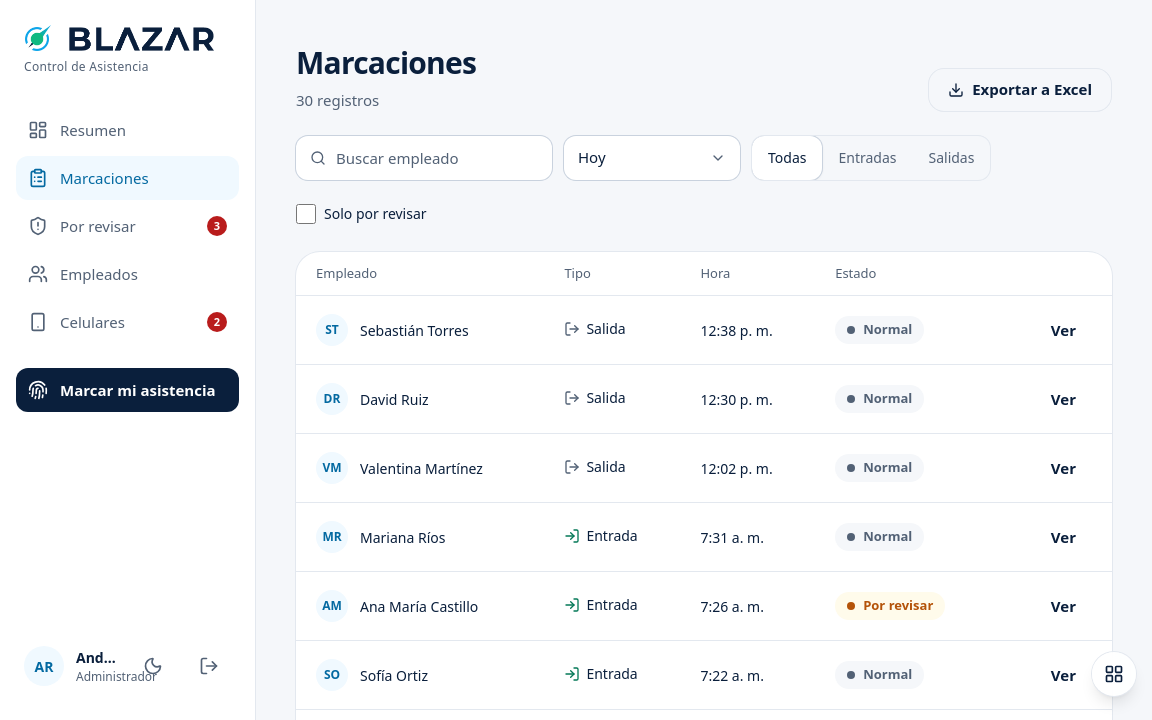
Marcaciones › busca por nombre de empleado
Expected: the heading "Marcaciones" is shown, [296,40,476,85]
Step 1. Type "laura" into the search field labelled "Buscar empleado" → {"x": 424, "y": 158}, box [296,136,552,180]
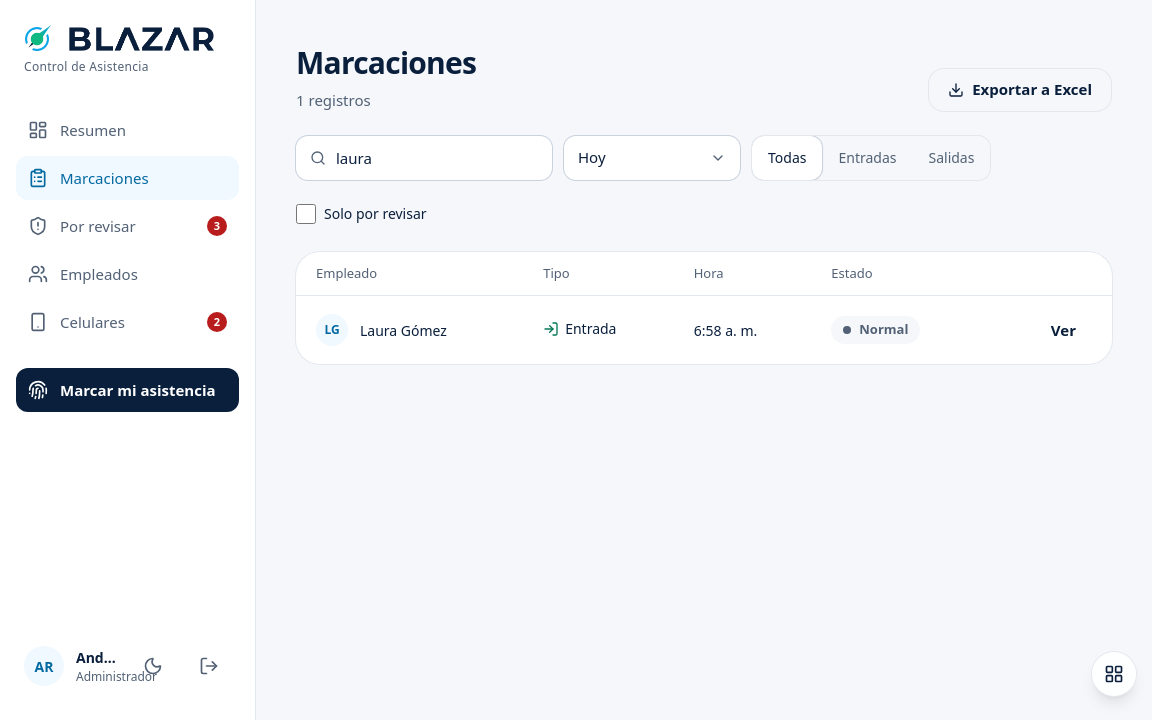
Expected: the text "1 registros" is shown, [296,90,371,110]
